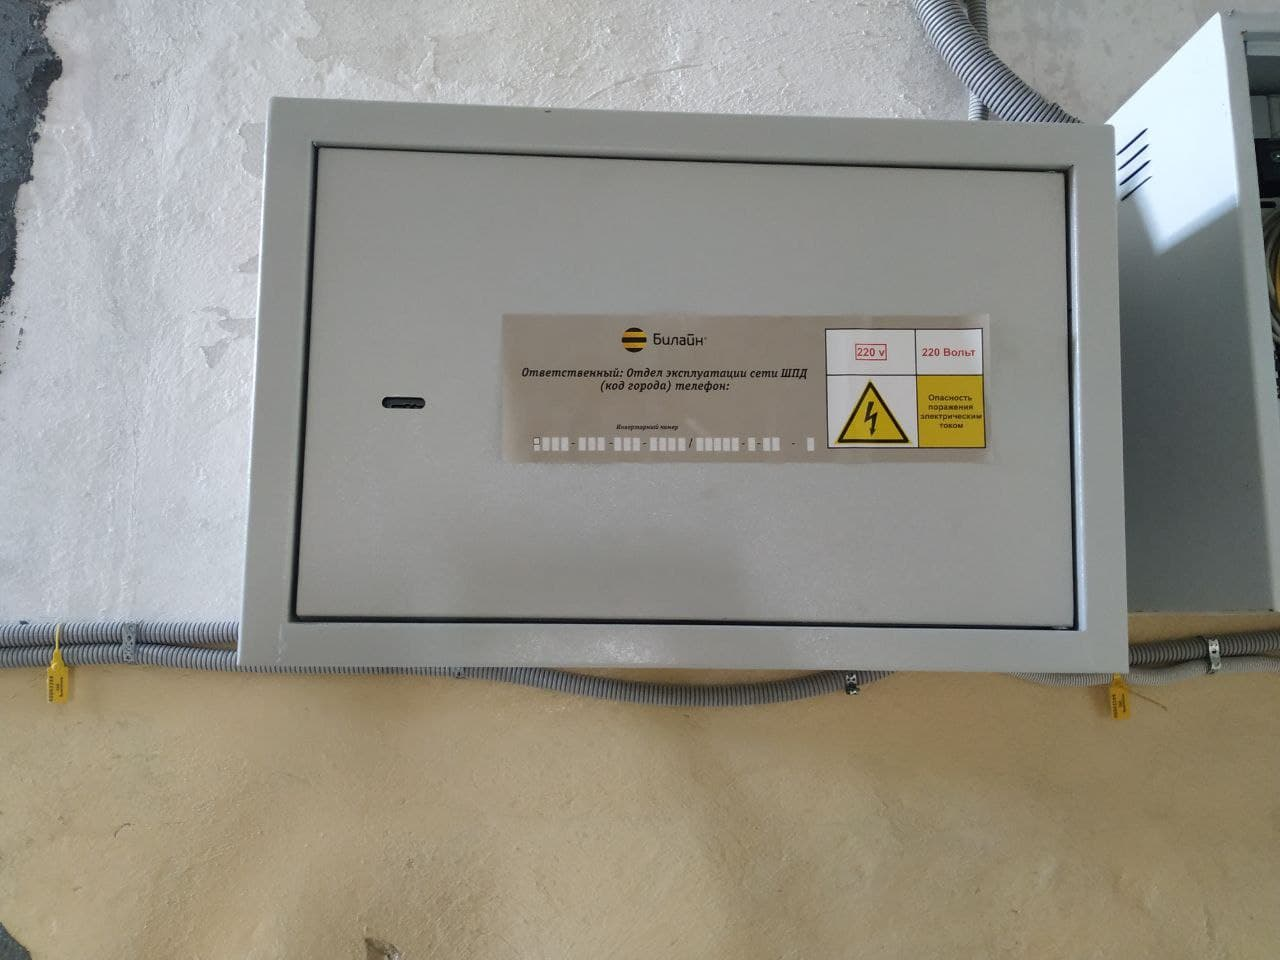shta-7m: (228, 84, 1144, 683)
